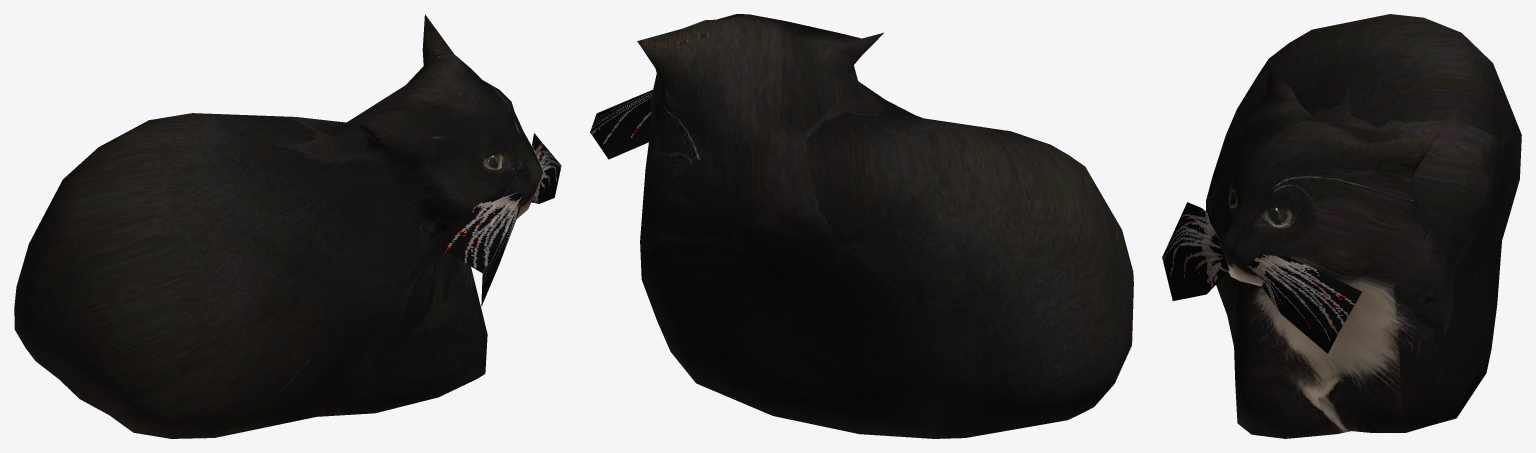
The model's file is maxwell.obj.
The picture shows the model from 3 angles, left to right: view 1: azimuth 30°, elevation 25°; view 2: azimuth 150°, elevation 25°; view 3: azimuth 270°, elevation 25°; orthographic projection. The views are drawn at different scales.
Parts seen in each view (by area): view 1: dingus_dingus_0, dingus_whiskers_0; view 2: dingus_dingus_0, dingus_whiskers_0; view 3: dingus_dingus_0, dingus_whiskers_0.
Boxes of the visible parts, left/top/right/bottom form: dingus_dingus_0: left=14, top=14, right=542, bottom=438; dingus_whiskers_0: left=432, top=133, right=561, bottom=306; dingus_dingus_0: left=637, top=14, right=1133, bottom=438; dingus_whiskers_0: left=590, top=89, right=652, bottom=159; dingus_dingus_0: left=1206, top=14, right=1521, bottom=438; dingus_whiskers_0: left=1162, top=202, right=1361, bottom=353.
Bounding box in the file's own units: 33.23 × 19.21 × 18.75.
